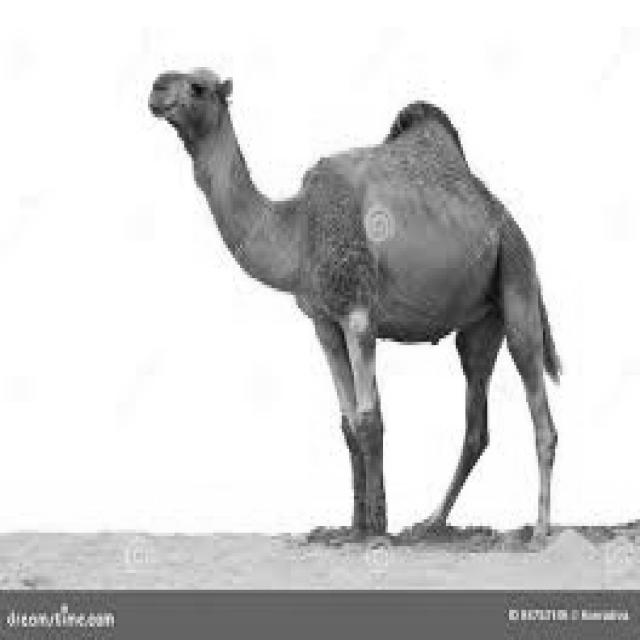Camel: (145, 64, 562, 546)
